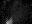person: (6, 15, 12, 23)
